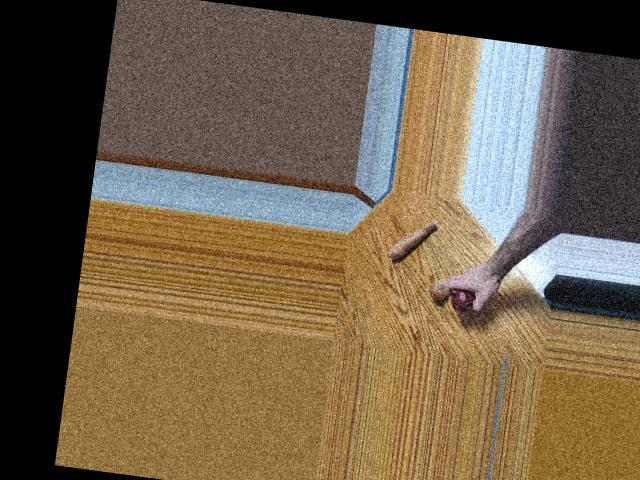onion: (428, 273, 456, 301)
